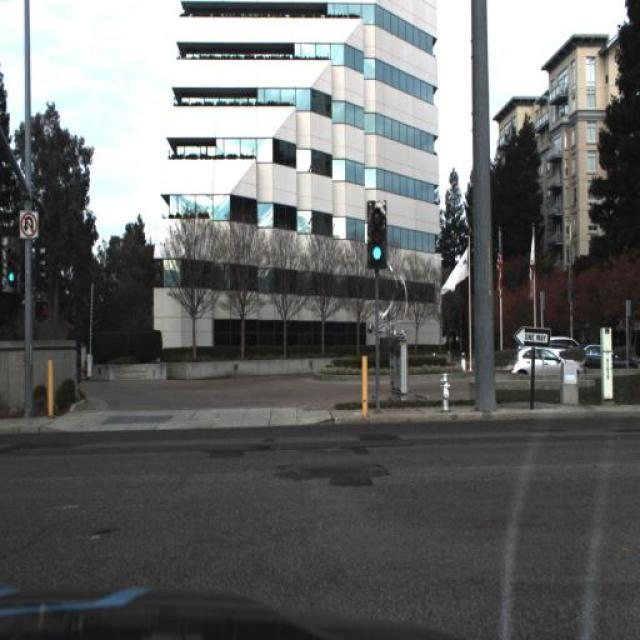car: (512, 348, 580, 377), (541, 332, 585, 368), (582, 335, 616, 370), (590, 344, 622, 374)
trafficLight-GreenLeft: (364, 202, 388, 278), (367, 202, 384, 267), (0, 257, 21, 303), (6, 248, 16, 288)
